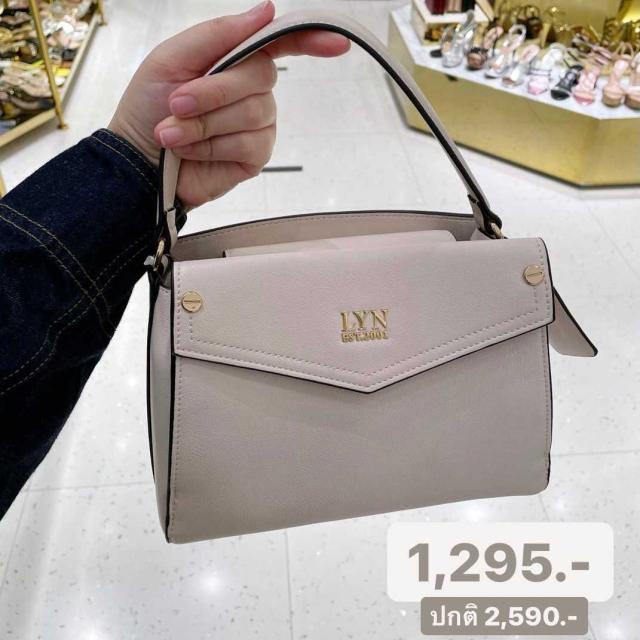Handbag: (128, 172, 586, 544)
